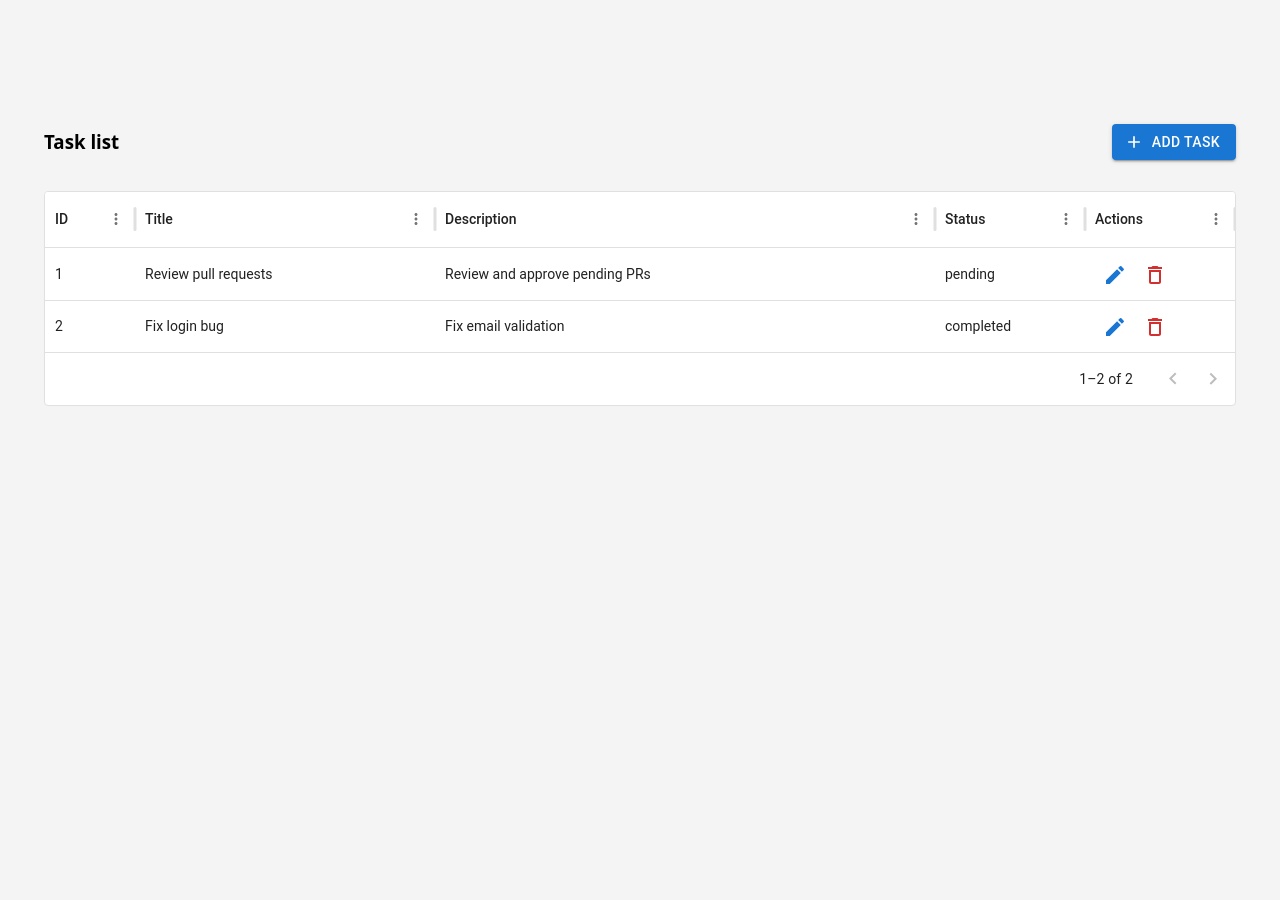
Tasks › Edit Task › opens Edit Task dialog with task data when edit icon is clicked
This screenshot has width=1280, height=900.
Expected: the text "Review pull requests" is shown, [145,266,273,282]
Step 1. Click the button named "Edit" in the row of "Review pull requests" → (1115, 275), box [1095,255,1135,295]
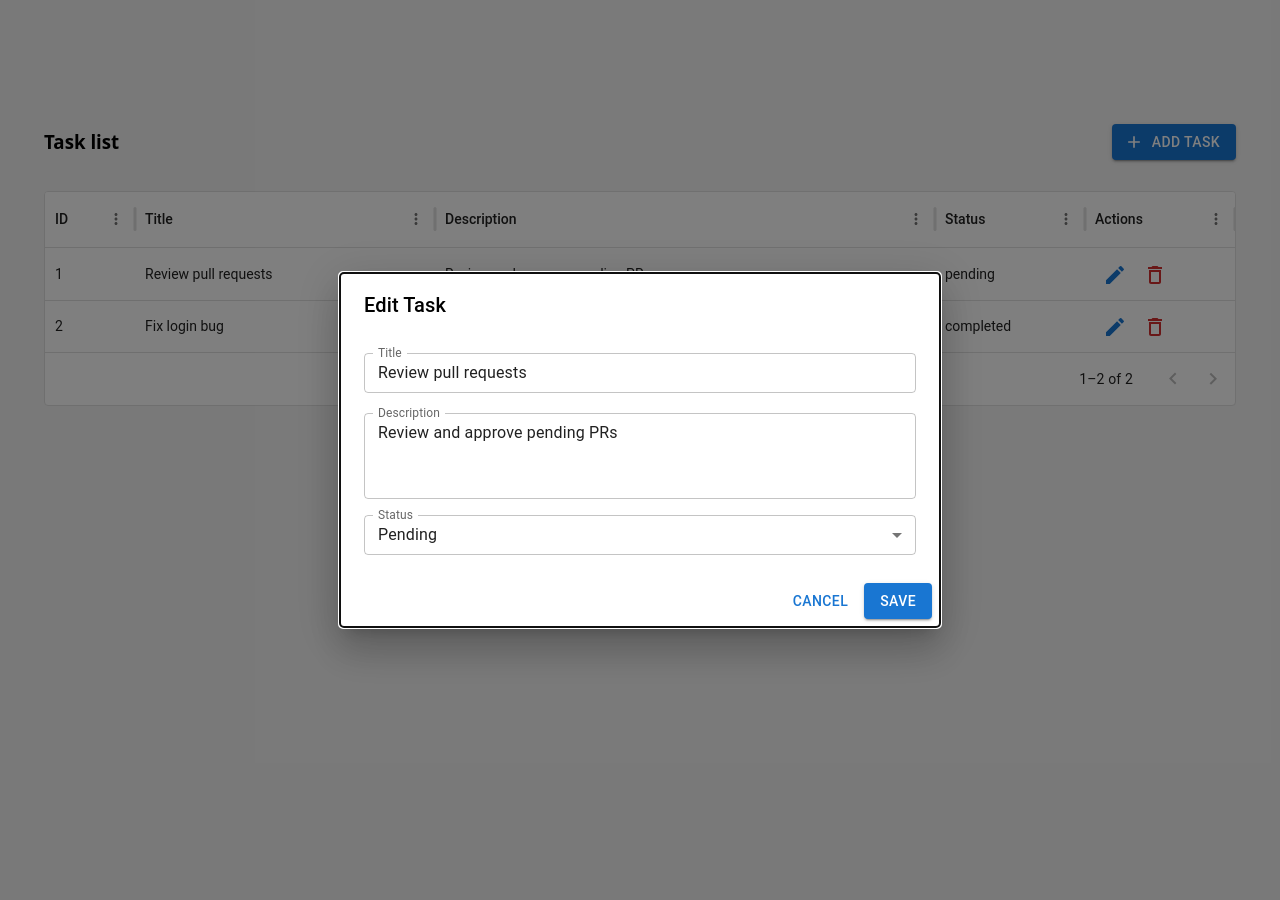
Result: the heading "Edit Task" is shown at [364,293,446,317]
Result: the field labelled "Title" holds "Review pull requests" at [364,353,916,393]
Result: the text box labelled "Description" holds "Review and approve pending PRs" at [378,421,902,490]
